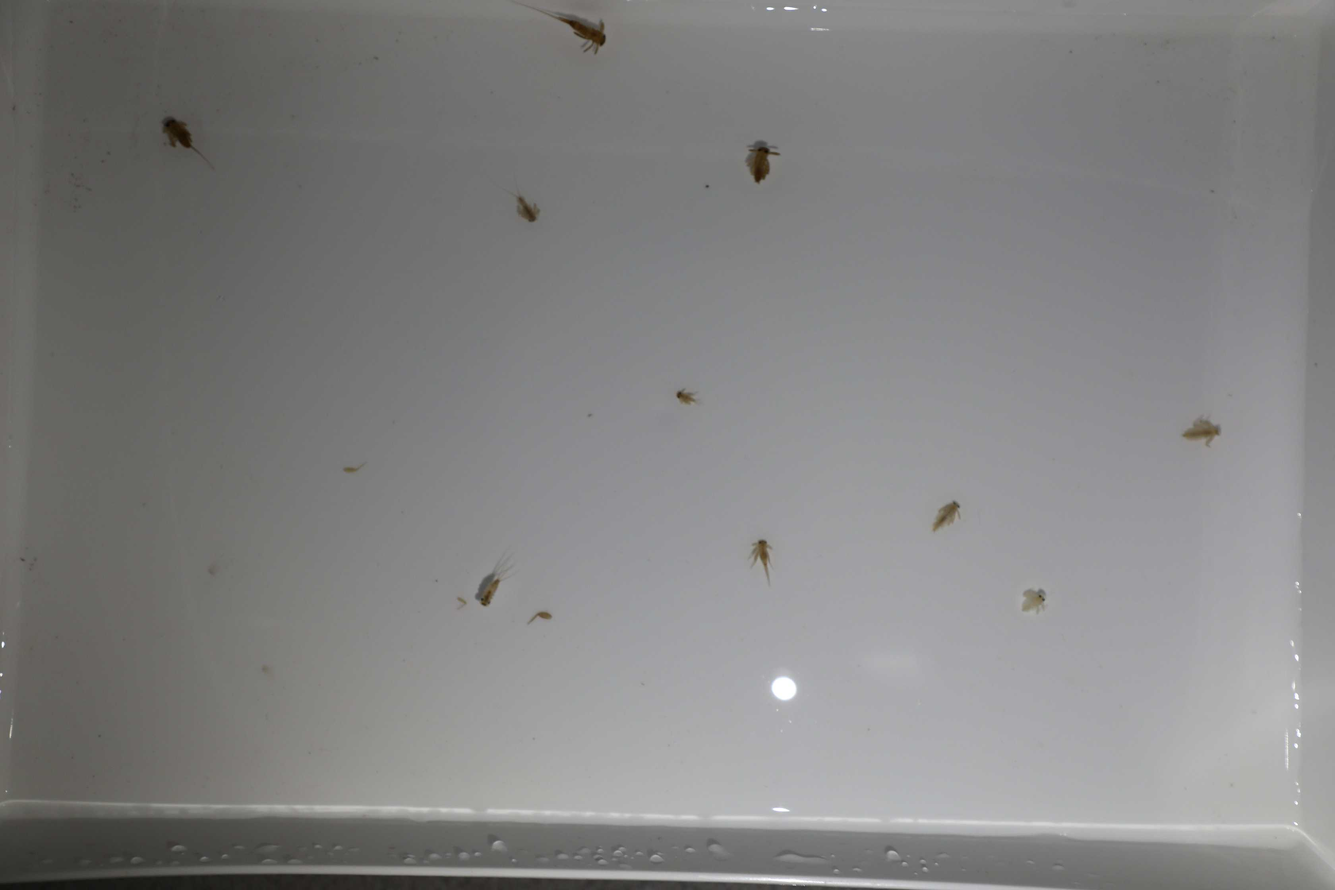Mayfly: (495, 0, 614, 64), (160, 112, 221, 178), (467, 548, 517, 611), (740, 135, 784, 192), (750, 530, 786, 591), (1176, 414, 1228, 452), (923, 500, 966, 542), (505, 192, 547, 226), (1014, 585, 1053, 618), (667, 383, 703, 409)
